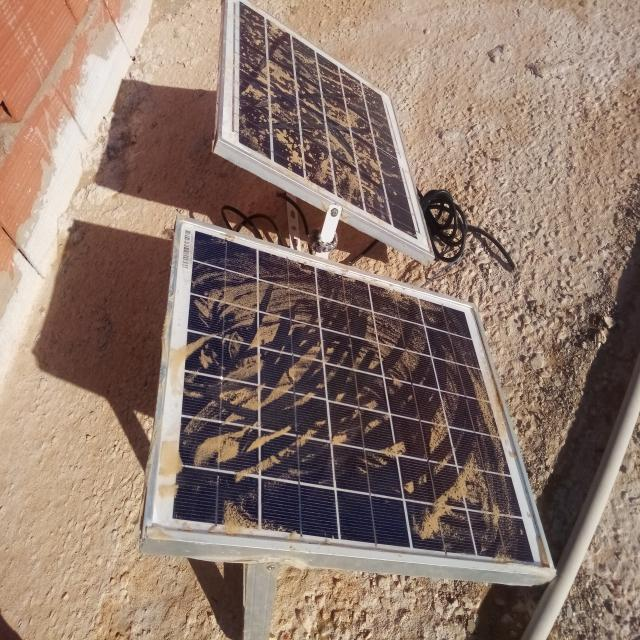faulty: (145, 222, 551, 572), (217, 2, 435, 258)
